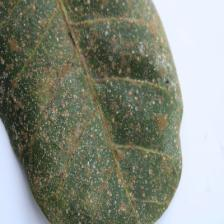red rust: (0, 0, 185, 223)
